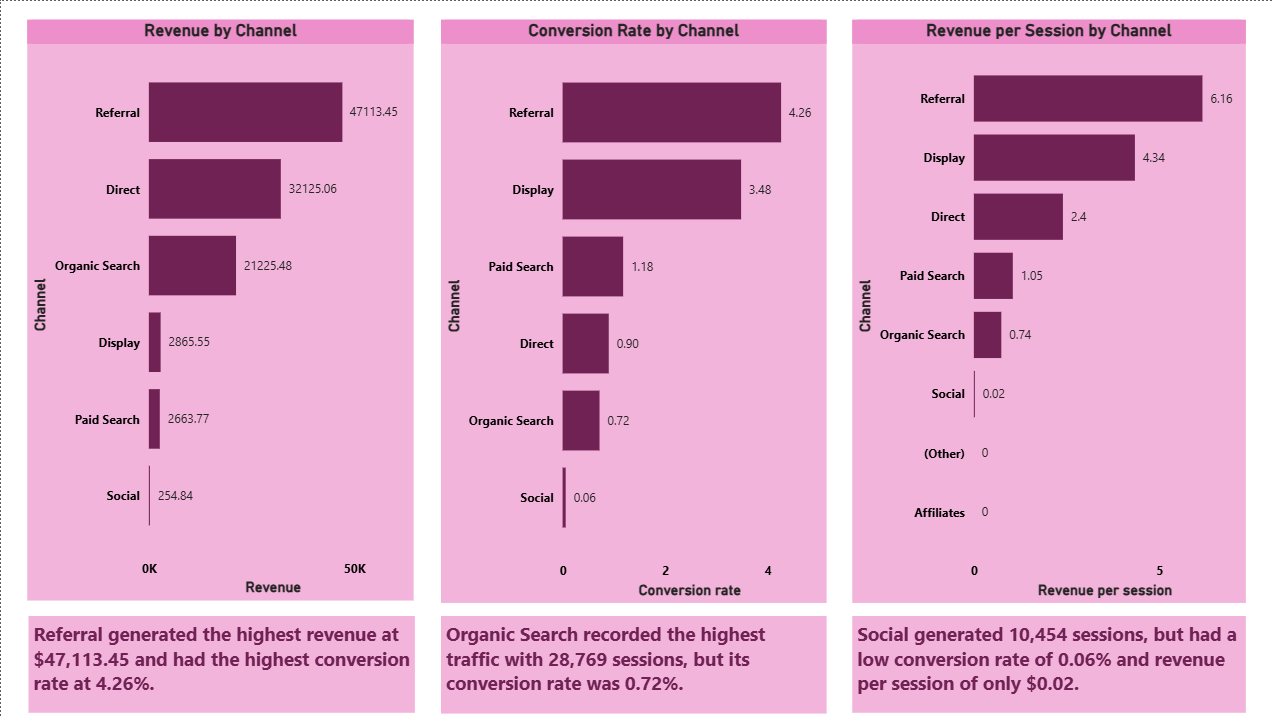

This screenshot's page, from the dashboard's own definition file:
{"tool":"powerbi","page":{"name":"Channel Analysis","canvas":[1280,720],"ordinal":1},"visuals":[{"type":"clusteredBarChart","title":"Revenue by Channel","fields":{"Category":["channel_performance_jan2017.channel"],"Y":["Sum(channel_performance_jan2017.revenue)"]},"box":[26.7,18.9,386.7,581.1],"z":0},{"type":"textbox","box":[26.9,615.1,386.4,96.6],"z":1000},{"type":"textbox","box":[440.5,614.8,385.6,97.4],"z":2000},{"type":"textbox","box":[851.1,615.1,393.8,96.6],"z":3000},{"type":"clusteredBarChart","title":"Conversion Rate by Channel","fields":{"Category":["channel_performance_jan2017.channel"],"Y":["Avg(channel_performance_jan2017.conversion_rate)"]},"box":[440,18.9,385.6,583.3],"z":4000},{"type":"clusteredBarChart","title":"Revenue per Session by Channel","fields":{"Category":["revenue_per_session_channel_jan2017.channel"],"Y":["Avg(revenue_per_session_channel_jan2017.revenue_per_session)"]},"box":[851.1,18.9,393.3,583.3],"z":5000}]}

Visuals, with their boxes in screenshot pixels (x1, y1, x2, y2), scaled from the page's 1280x720 canvas onto the 1273x716 screenshot:
"Revenue by Channel" clusteredBarChart: pyautogui.locateOnScreen(27, 19, 411, 597)
textbox: pyautogui.locateOnScreen(27, 612, 411, 708)
textbox: pyautogui.locateOnScreen(438, 611, 822, 708)
textbox: pyautogui.locateOnScreen(846, 612, 1238, 708)
"Conversion Rate by Channel" clusteredBarChart: pyautogui.locateOnScreen(438, 19, 821, 599)
"Revenue per Session by Channel" clusteredBarChart: pyautogui.locateOnScreen(846, 19, 1238, 599)
